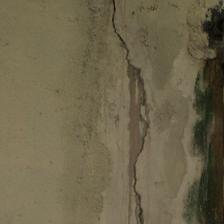Crack: (55, 1, 99, 221)
